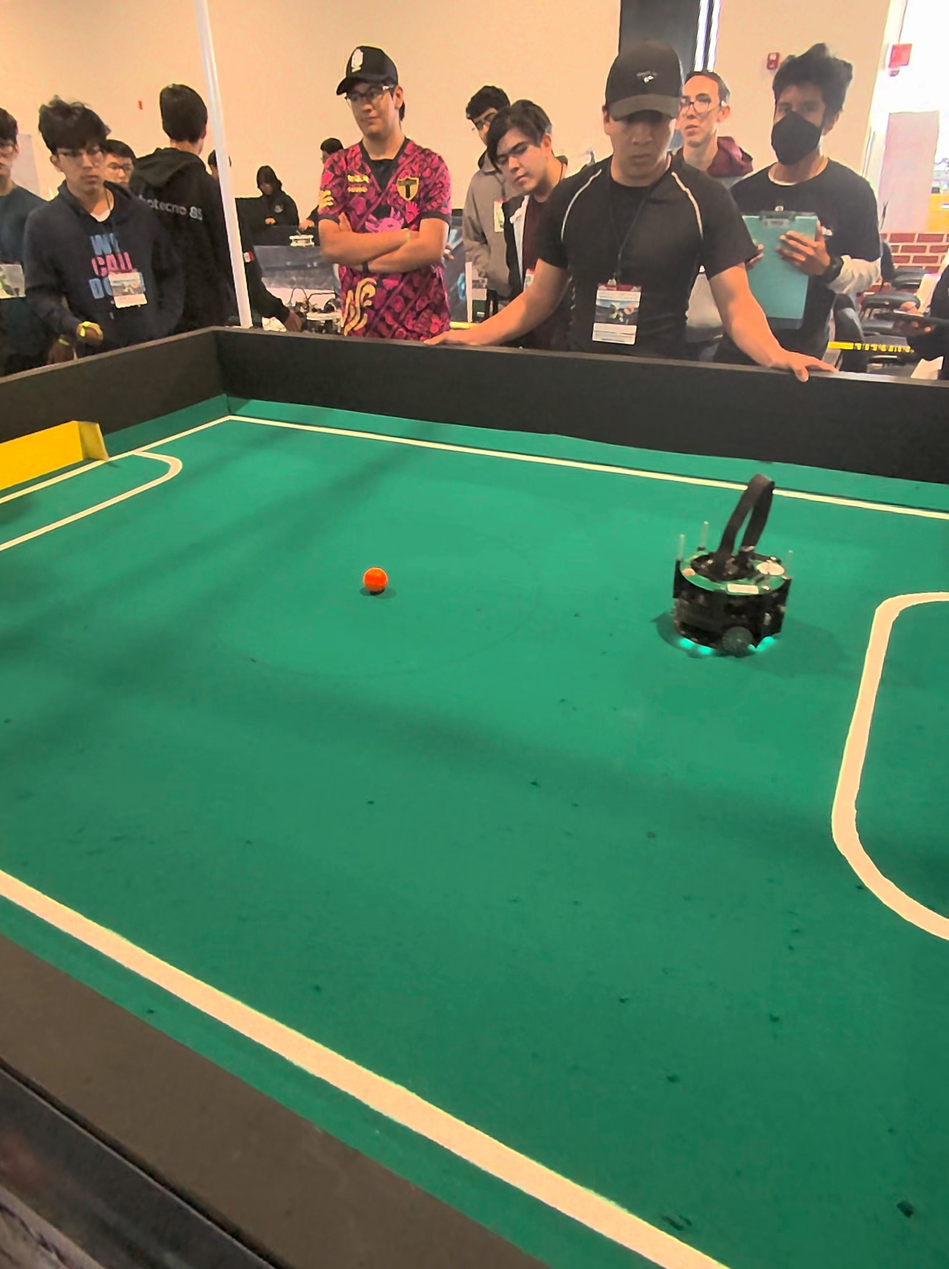Robot: (662, 474, 795, 680)
pelota: (363, 569, 386, 594)
